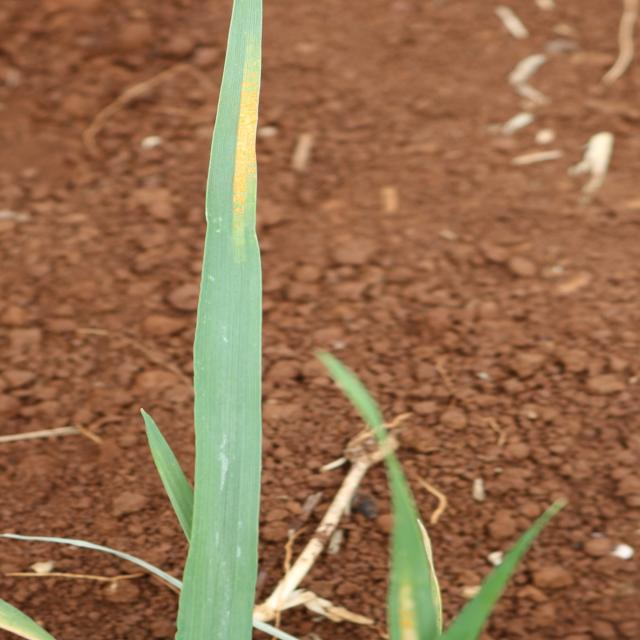Stripe Rust: (232, 70, 260, 237)
